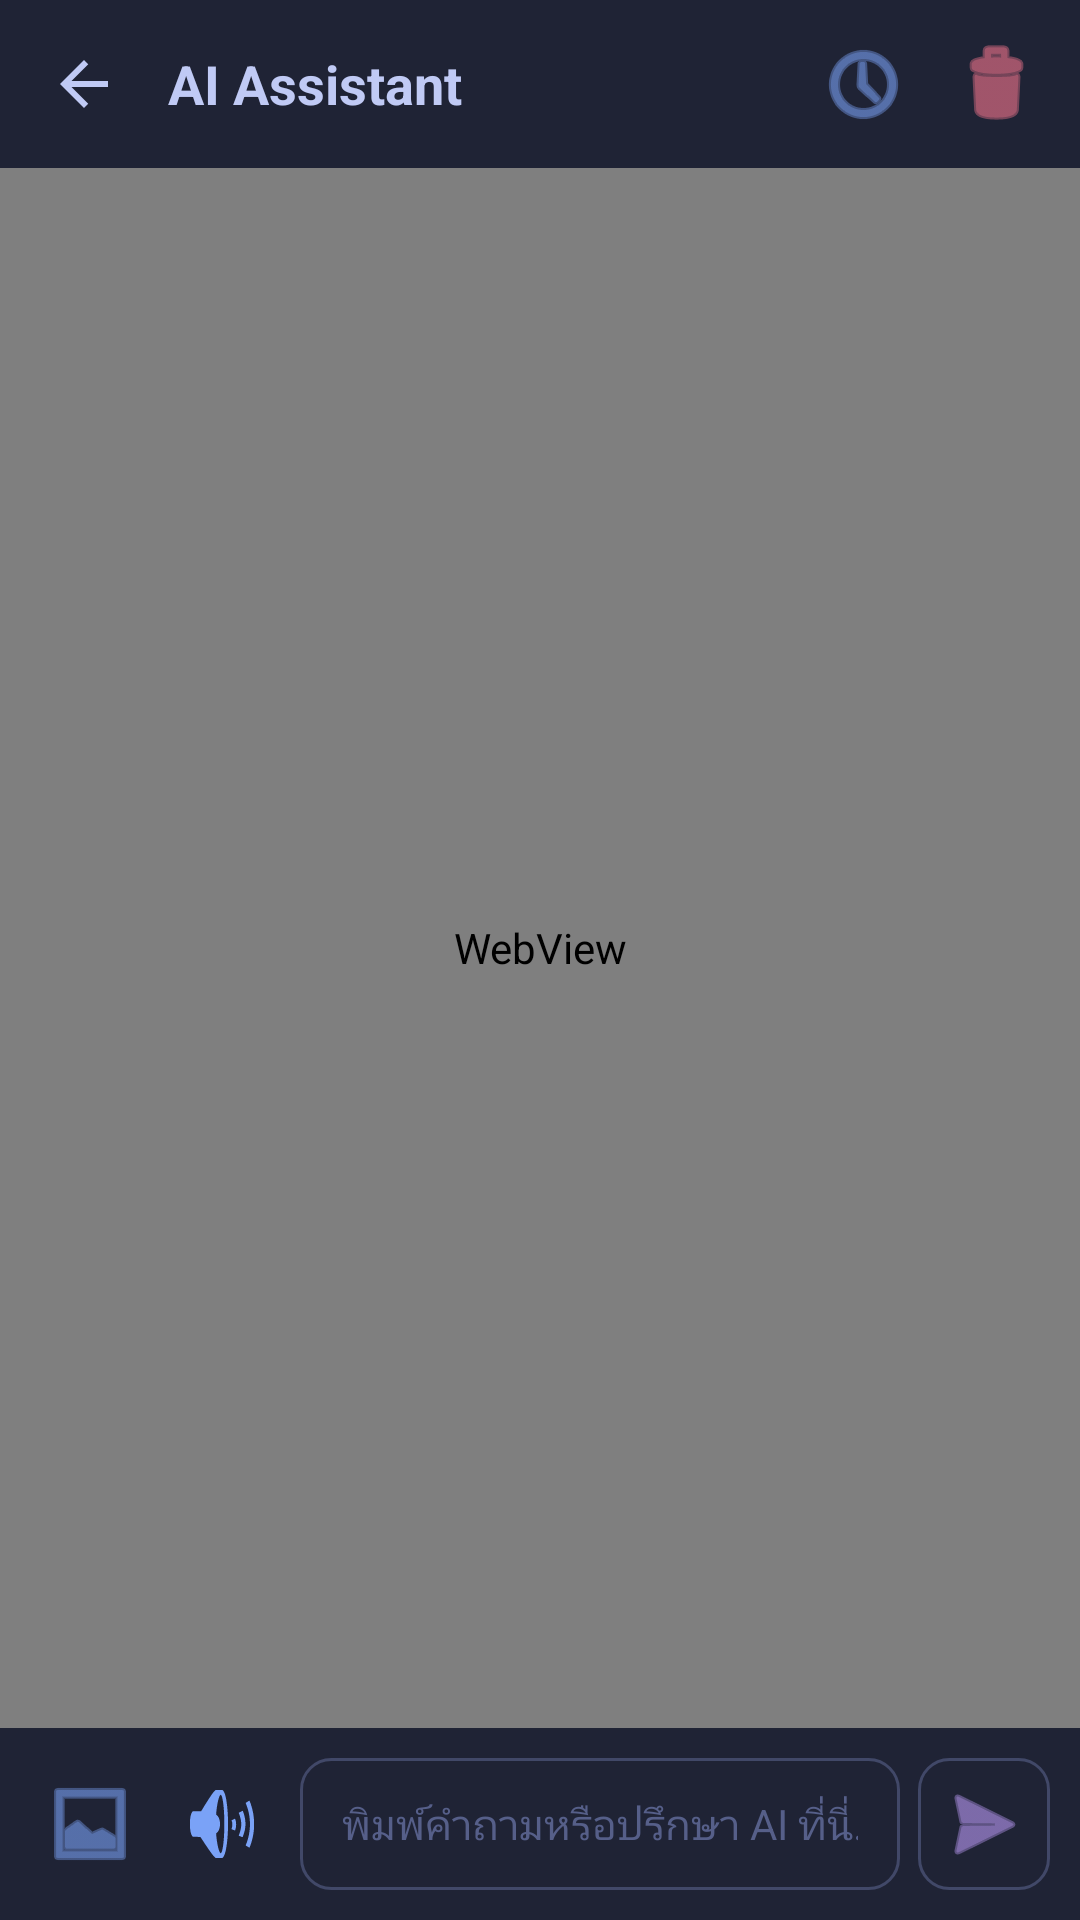

Point at icon controls on the screen. Image size 1080x1920, points as point (x, y).
กลับ: point (84, 84)
ประวัติ: point (863, 84)
ล้างประวัติ: point (996, 82)
ส่ง: point (984, 1824)
เสียง: point (222, 1824)
แนบรูป: point (90, 1824)
